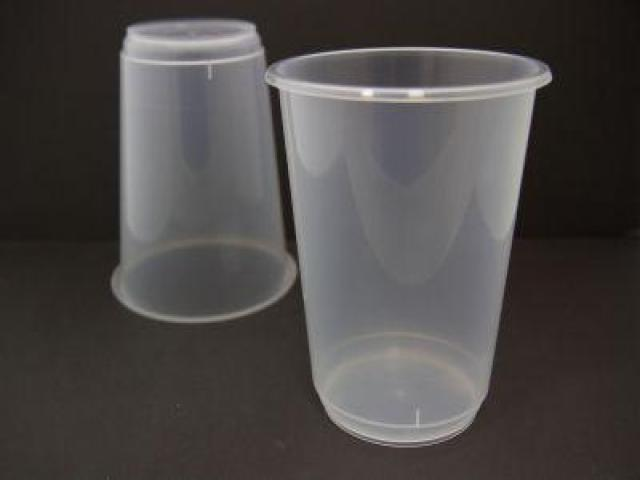cup: (268, 48, 550, 445), (111, 21, 296, 322)
